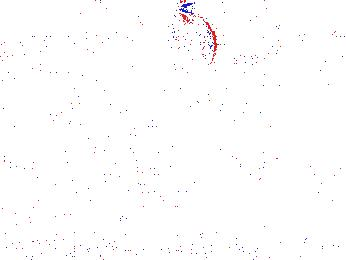moon jellyfish: (195, 51, 286, 121), (277, 1, 346, 79), (52, 88, 124, 151), (3, 34, 96, 79), (169, 9, 217, 84), (1, 1, 82, 33)
